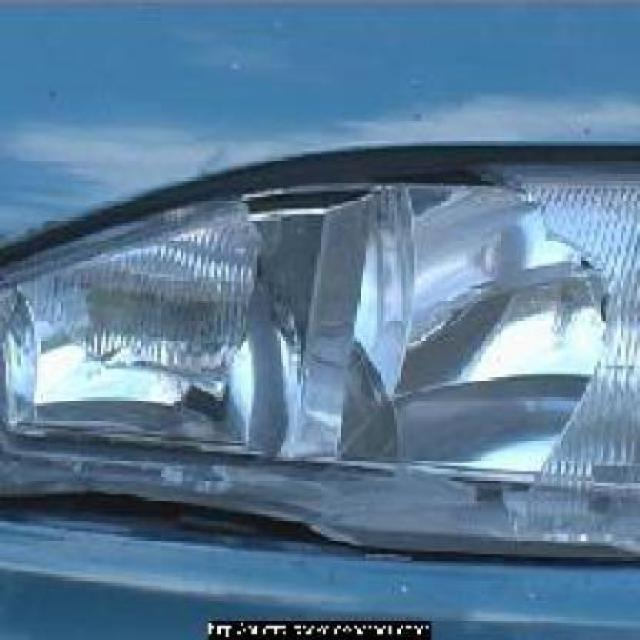damaged-head-light: (0, 171, 637, 560)
